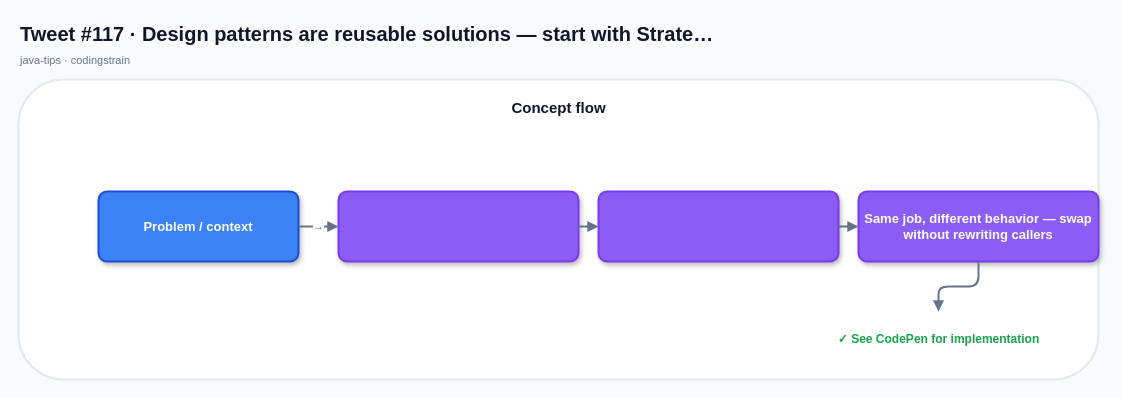
This 1122x397 diagram has some shape labels left out. Here are the shapes that lost their labels. From the top down, the centre of each, then its label:
At point 459,227: "💡 Design patterns are reusable solutions — start with Strategy.".
At point 719,227: "Replace a growing `if/else` with small classes".
